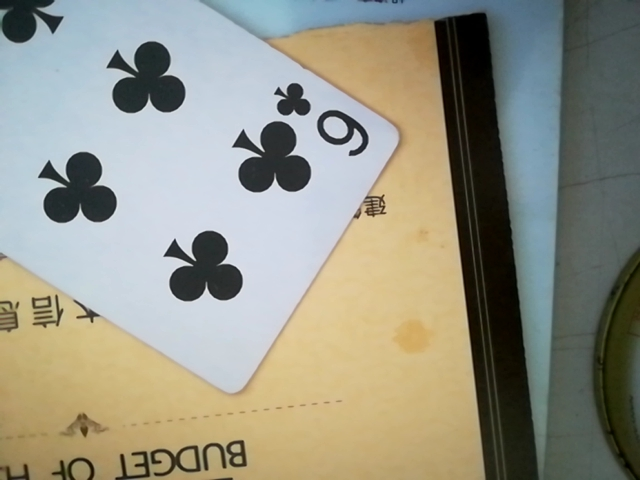mh 6: (0, 0, 403, 390)
